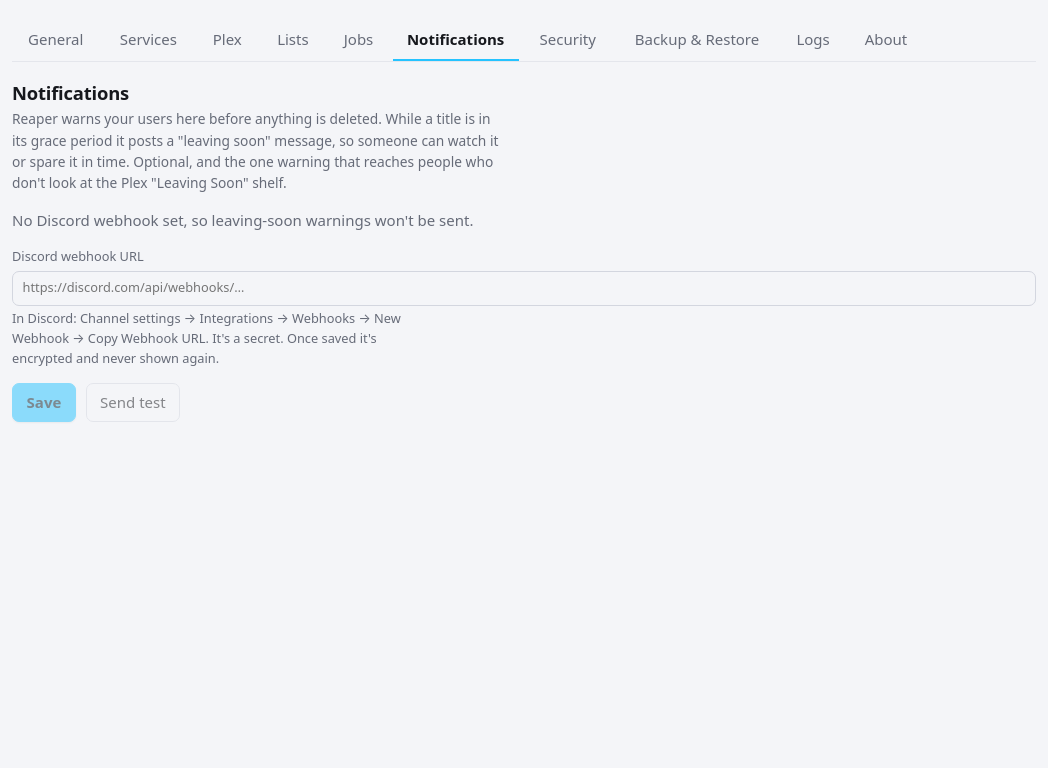
Test: leaving Plex or Notifications with something unsaved › holds the switch on a webhook too malformed to save
The width and height of the screenshot is (1048, 768).
Clear the password field labelled "Discord webhook URL". click: (524, 288)
box: [12,271,1036,306]
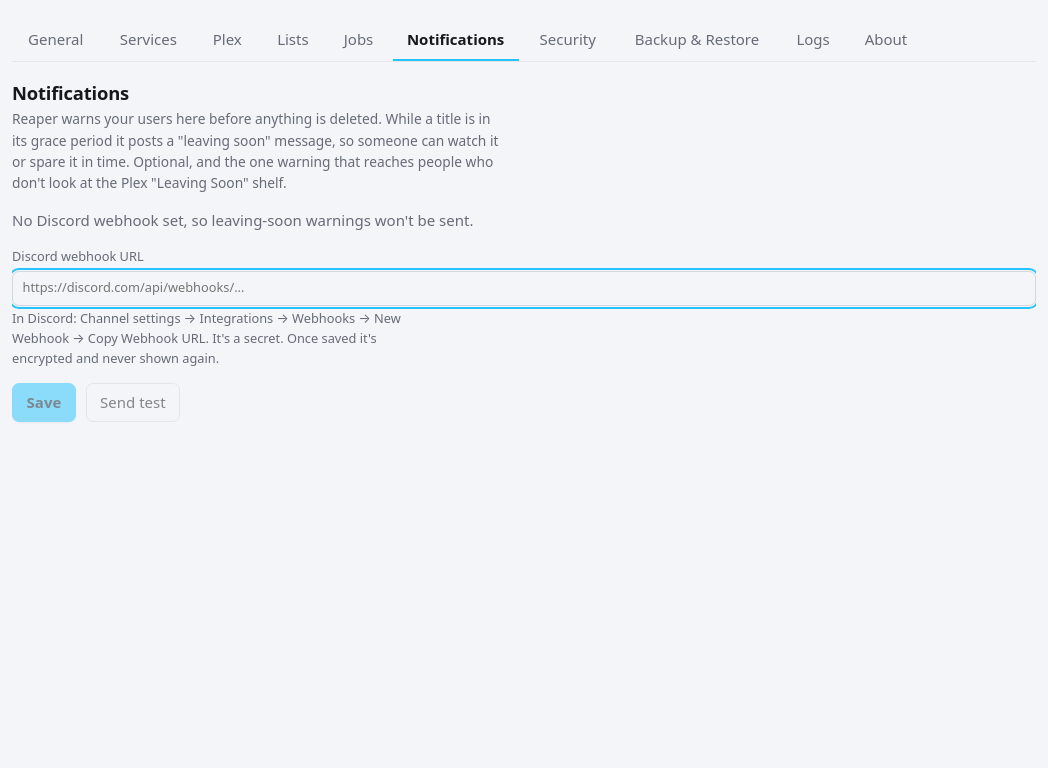
Type keys "discord.com/api/webhoo"
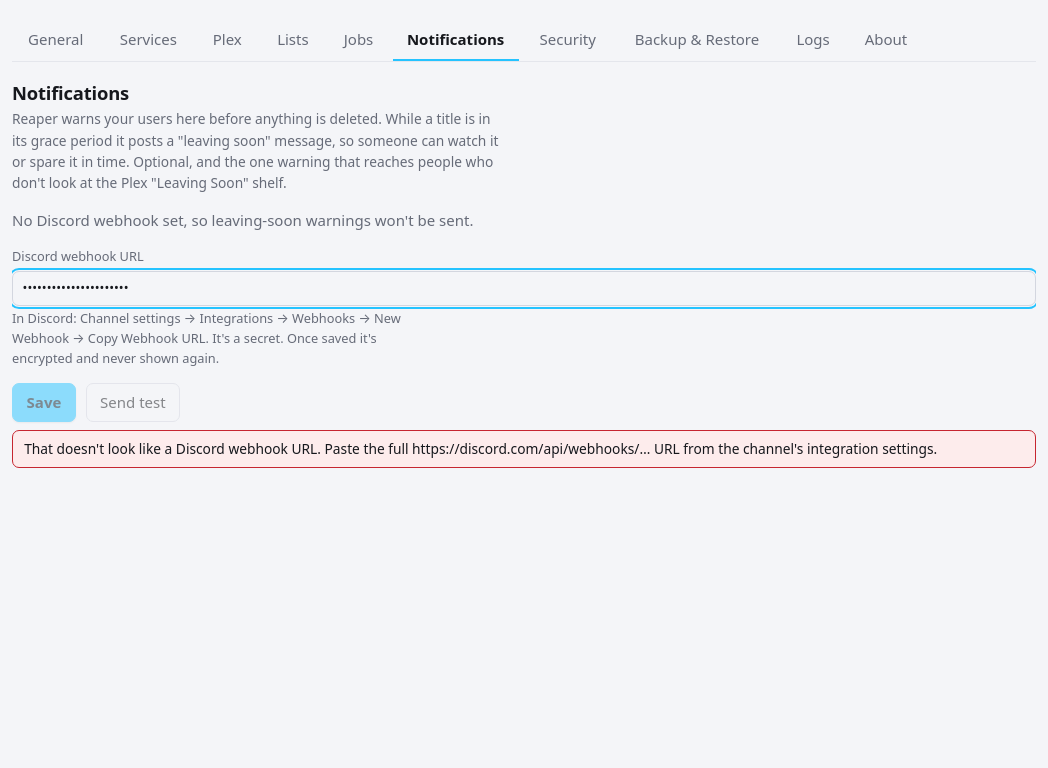
Expected: the button "Save" is disabled, [12,383,76,422]
Now the password field labelled "Discord webhook URL" holds "discord.com/api/webhoo", box [12,271,1036,306]
Click the button "Security". click: (568, 41)
box: [523,20,613,61]
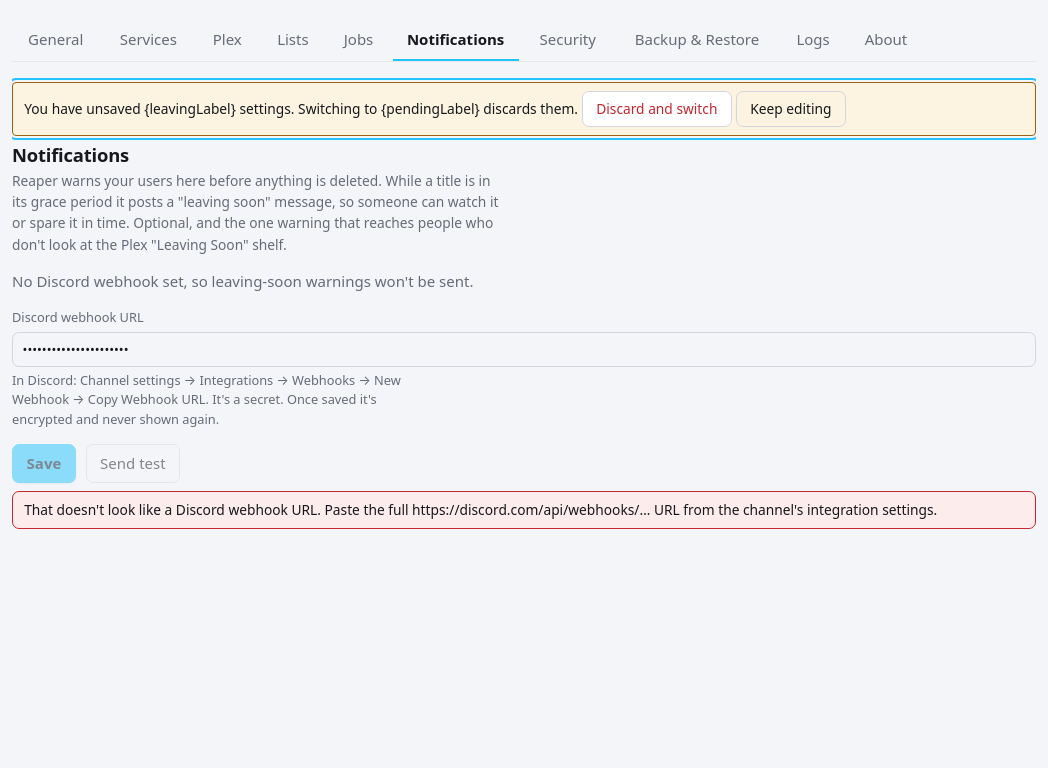
Expected: the button "Notifications" is shown, [392,20,519,61]
Now the message with class "notice-warn" is shown, box [12,82,1036,136]
